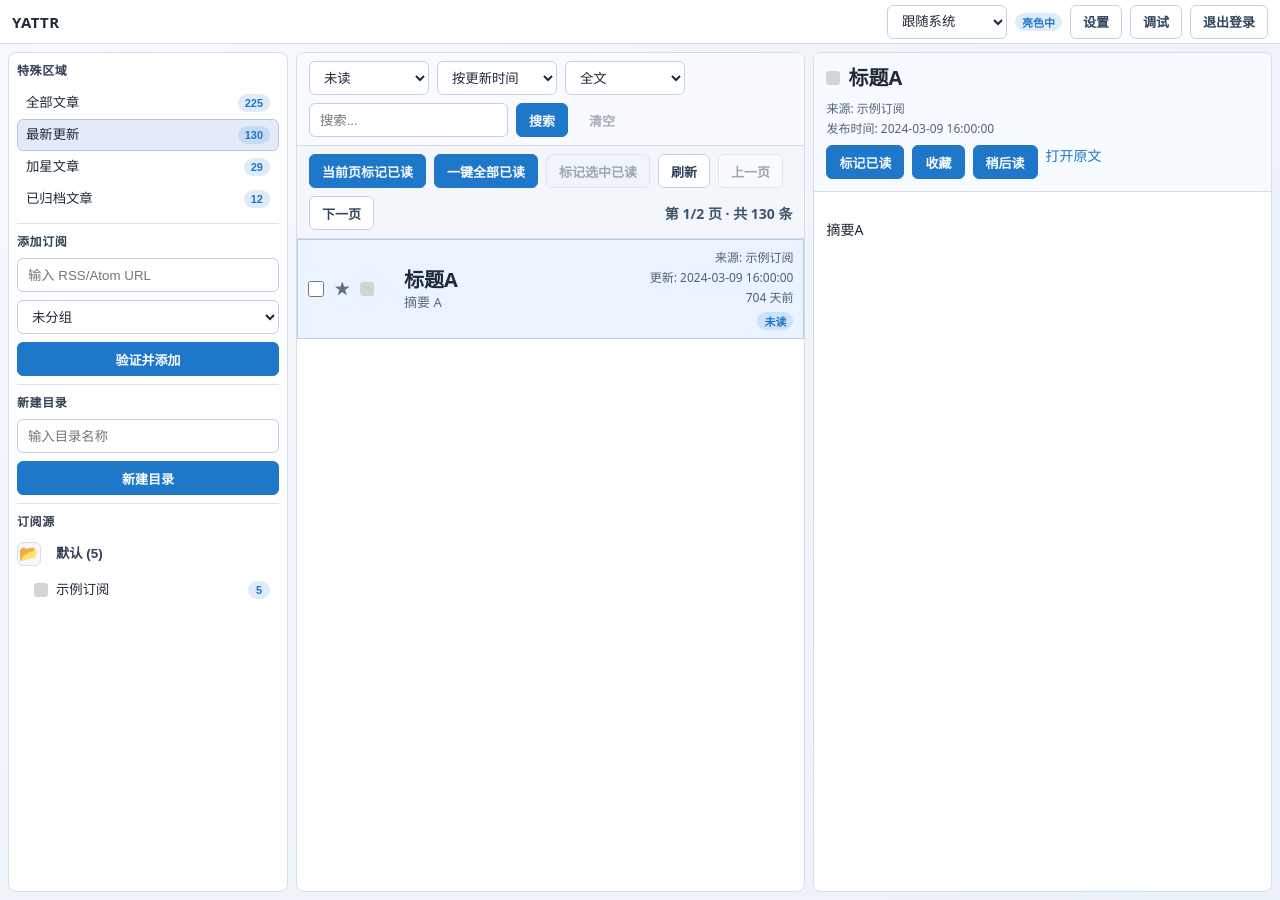
Test: creates folder from sidebar controls
The width and height of the screenshot is (1280, 900).
Type "技术" into the field with placeholder "输入目录名称" at (148, 436), box [17,419,279,453]
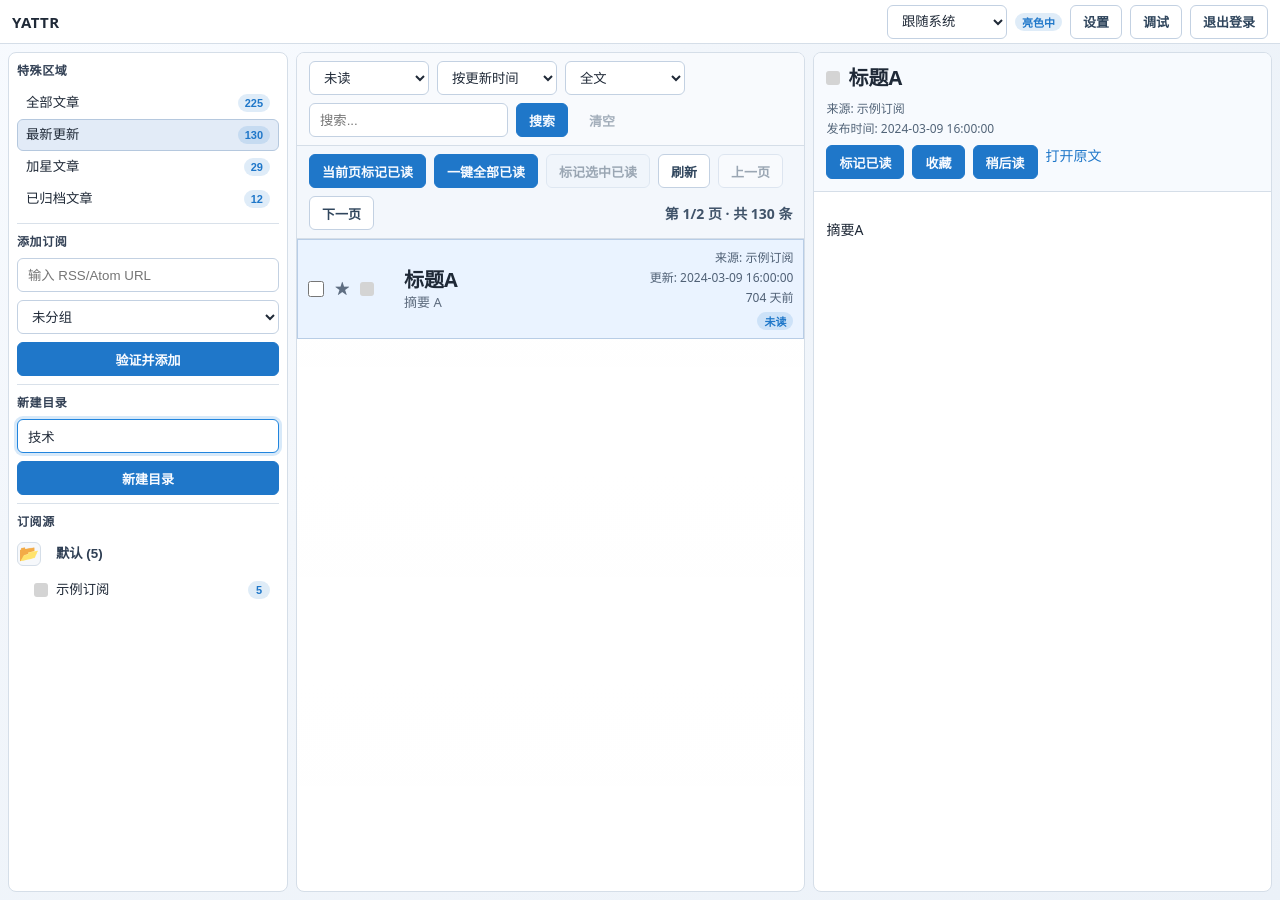
Click the button "新建目录" at (148, 478), box [17,461,279,495]
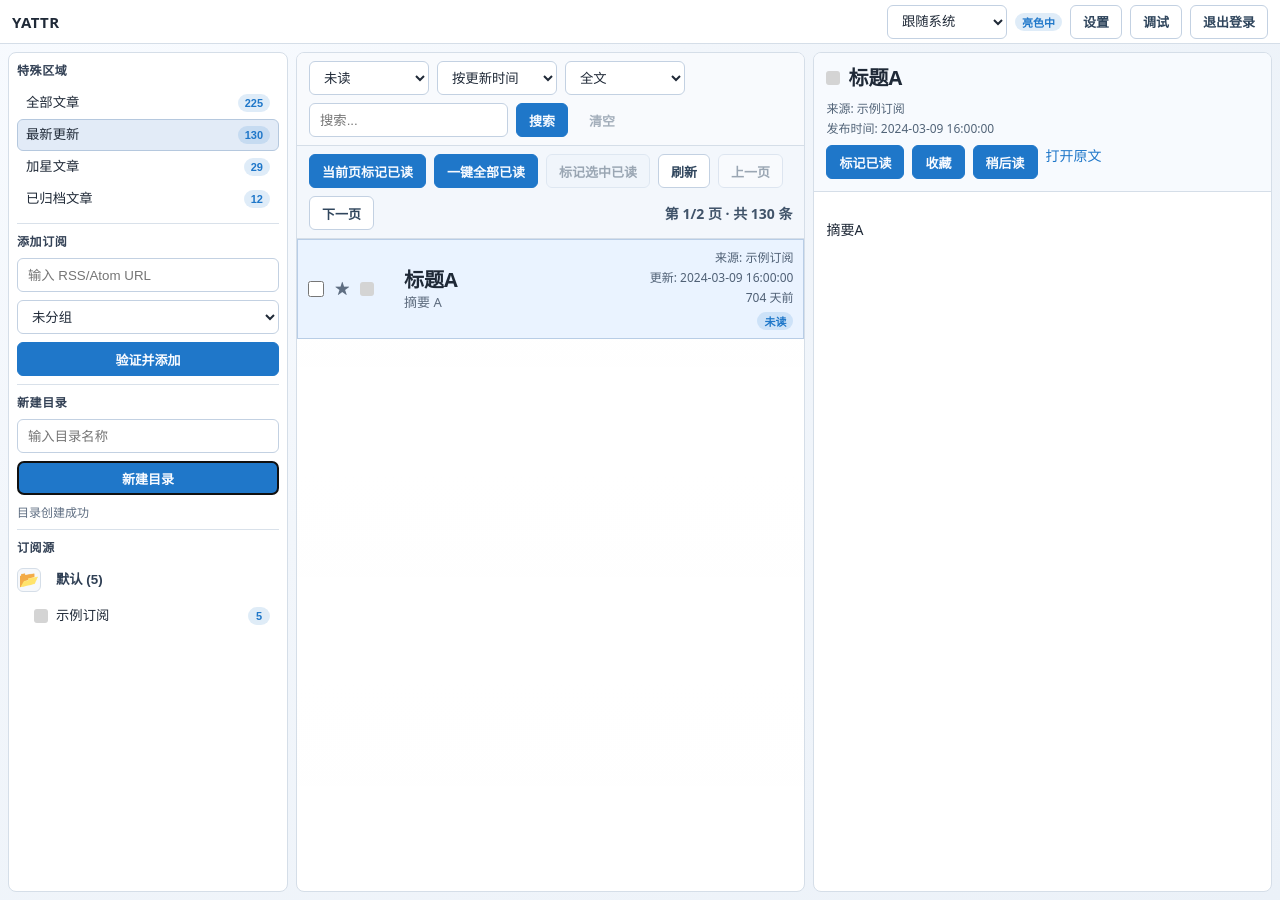
expect the text "目录创建成功" is shown: met, box [17,504,89,521]
